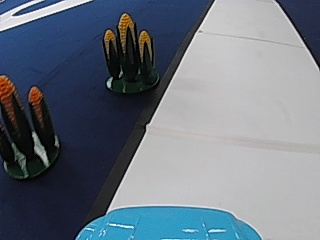corn: (1, 78, 62, 180), (99, 10, 161, 92)
